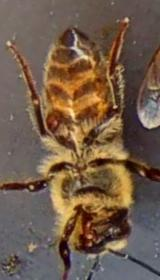varroa_mite: (35, 108, 70, 136)
